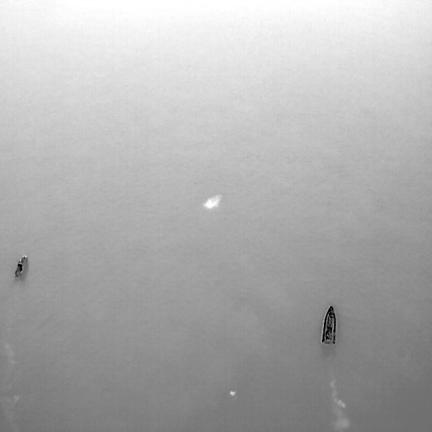flukeprints: (203, 196, 221, 209)
